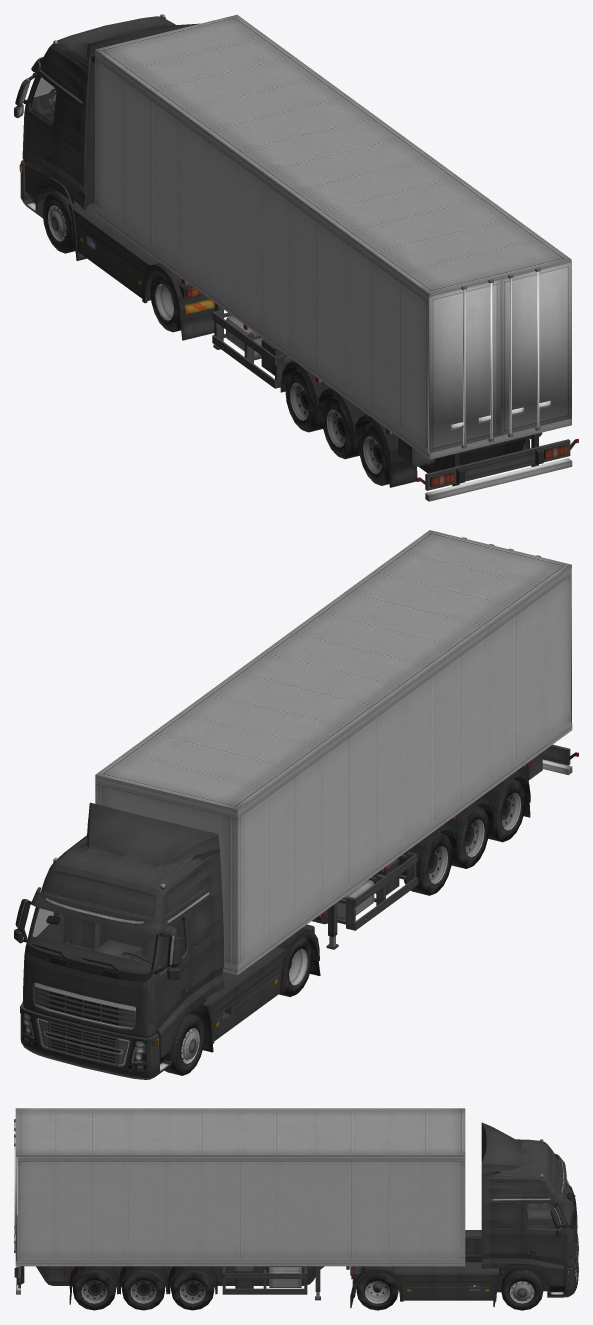
File: 大货车Draco.glb
3 renders of one model, top to bottom at view 1: azimuth 30°, elevation 25°; view 2: azimuth 150°, elevation 25°; view 3: azimuth 270°, elevation 25°, orthographic. The views are drawn at different scales.
Visible parts, largest first — view 1: BigTruck0102Trailer_BigTruck0102_0, BigTruck0101Main_BigTruck0101_0, BigTruck0102DoorL_BigTruck0102_0, BigTruck0102DoorR_BigTruck0102_0, WheelFL1_BigTruck0101_0, WheelBL009_BigTruck0102_0, WheelBL010_BigTruck0102_0, WheelBL3_BigTruck0102_0, WheelFL2_BigTruck0101_0, BigTruck0101Main_BigTruck0101Alpha_0; view 2: BigTruck0102Trailer_BigTruck0102_0, BigTruck0101Main_BigTruck0101_0, BigTruck0101Main_BigTruck0101Alpha_0, WheelFL1_BigTruck0101_0, WheelBL009_BigTruck0102_0, WheelBL010_BigTruck0102_0, WheelBL3_BigTruck0102_0, WheelFL2_BigTruck0101_0; view 3: BigTruck0102Trailer_BigTruck0102_0, BigTruck0101Main_BigTruck0101_0, WheelFR1_BigTruck0101_0, WheelBR009_BigTruck0102_0, WheelBR010_BigTruck0102_0, WheelBR3_BigTruck0102_0, WheelFR2_BigTruck0101_0, BigTruck0101Main_BigTruck0101Alpha_0, BigTruck0102DoorR_BigTruck0102_0.
Part boxes in pixels (<box>): BigTruck0102Trailer_BigTruck0102_0: <box>95,14,578,501</box>; BigTruck0101Main_BigTruck0101_0: <box>14,14,214,340</box>; BigTruck0102DoorL_BigTruck0102_0: <box>428,279,500,452</box>; BigTruck0102DoorR_BigTruck0102_0: <box>500,262,571,435</box>; WheelFL1_BigTruck0101_0: <box>42,191,74,253</box>; WheelBL009_BigTruck0102_0: <box>285,369,322,432</box>; WheelBL010_BigTruck0102_0: <box>322,396,359,459</box>; WheelBL3_BigTruck0102_0: <box>358,423,389,485</box>; WheelFL2_BigTruck0101_0: <box>150,272,180,332</box>; BigTruck0101Main_BigTruck0101Alpha_0: <box>32,77,56,121</box>; BigTruck0102Trailer_BigTruck0102_0: <box>95,530,578,975</box>; BigTruck0101Main_BigTruck0101_0: <box>14,802,320,1079</box>; BigTruck0101Main_BigTruck0101Alpha_0: <box>29,907,184,973</box>; WheelFL1_BigTruck0101_0: <box>164,1013,204,1075</box>; WheelBL009_BigTruck0102_0: <box>404,832,452,895</box>; WheelBL010_BigTruck0102_0: <box>451,806,489,868</box>; WheelBL3_BigTruck0102_0: <box>488,779,525,842</box>; WheelFL2_BigTruck0101_0: <box>279,936,312,996</box>; BigTruck0102Trailer_BigTruck0102_0: <box>14,1108,465,1304</box>; BigTruck0101Main_BigTruck0101_0: <box>350,1122,578,1308</box>; WheelFR1_BigTruck0101_0: <box>501,1269,543,1310</box>; WheelBR009_BigTruck0102_0: <box>171,1270,214,1310</box>; WheelBR010_BigTruck0102_0: <box>122,1270,164,1310</box>; WheelBR3_BigTruck0102_0: <box>73,1270,115,1310</box>; WheelFR2_BigTruck0101_0: <box>356,1273,398,1310</box>; BigTruck0101Main_BigTruck0101Alpha_0: <box>527,1179,573,1228</box>; BigTruck0102DoorR_BigTruck0102_0: <box>14,1137,16,1261</box>.
Bounding box in the file's own units: 2.84 × 3.84 × 12.47.
3 materials, 3 textured.
